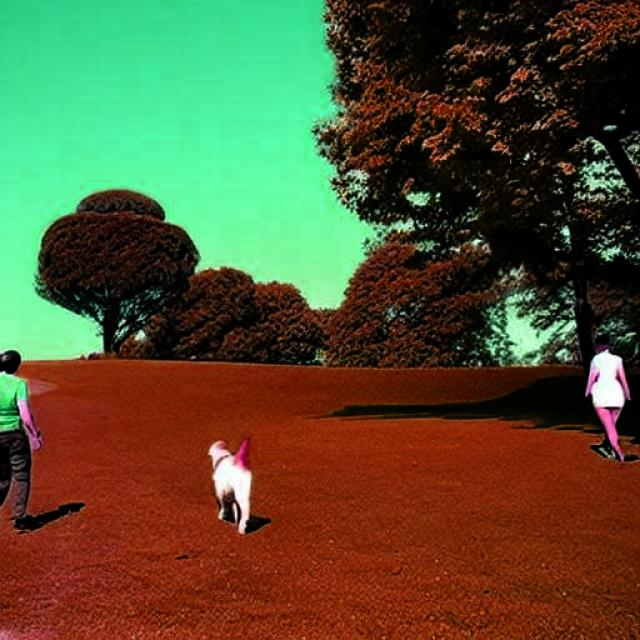Unleashed_Dog: (0, 432, 254, 536)
